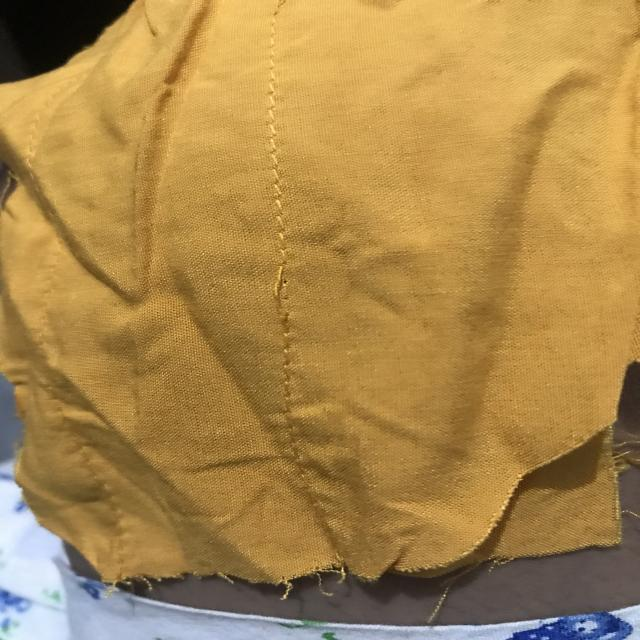broken: (260, 255, 316, 352)
good: (256, 148, 294, 238)
